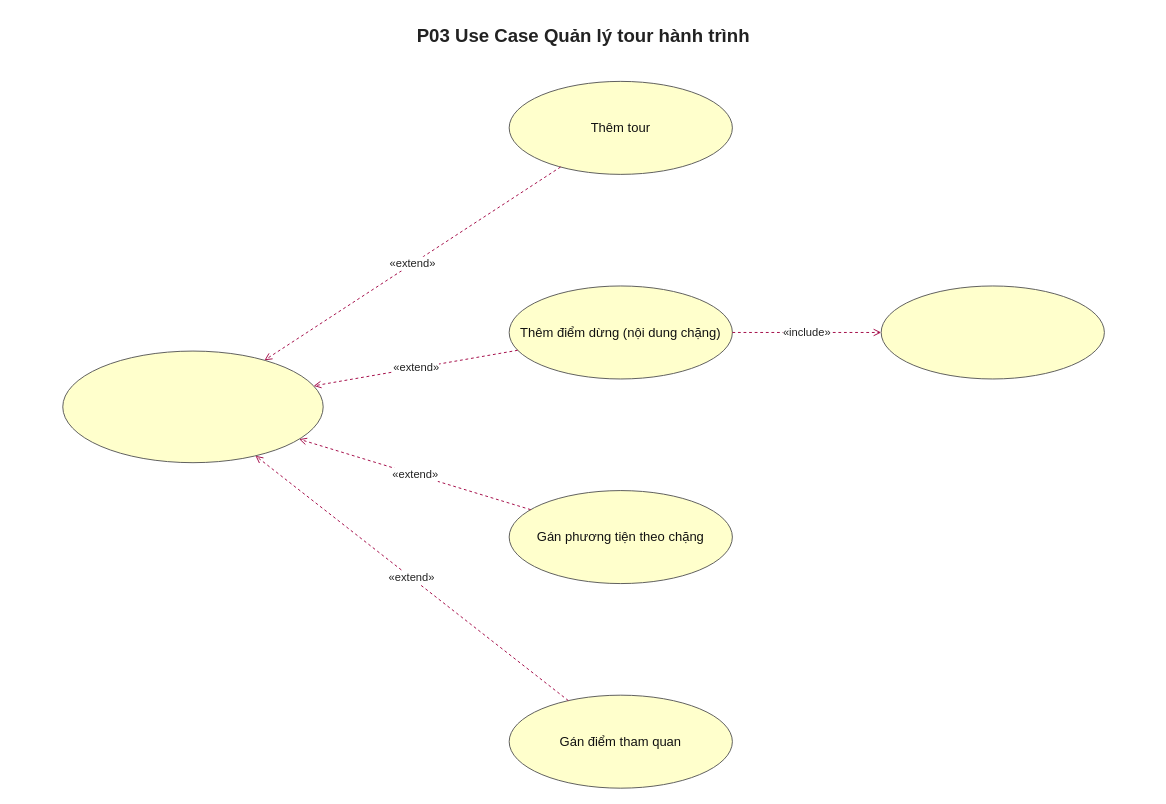
The diagram is 1166 pixels wide and 804 high, and some of its shapes have lost their labels. The shapes that lost their labels are listed below. From the top down, each one's centre as x and y in pixels, then its label:
At (992,332): "Kiểm tra hạng sao khách sạn 2–5".
At (192,406): "Quản lý tour - hành trình".
